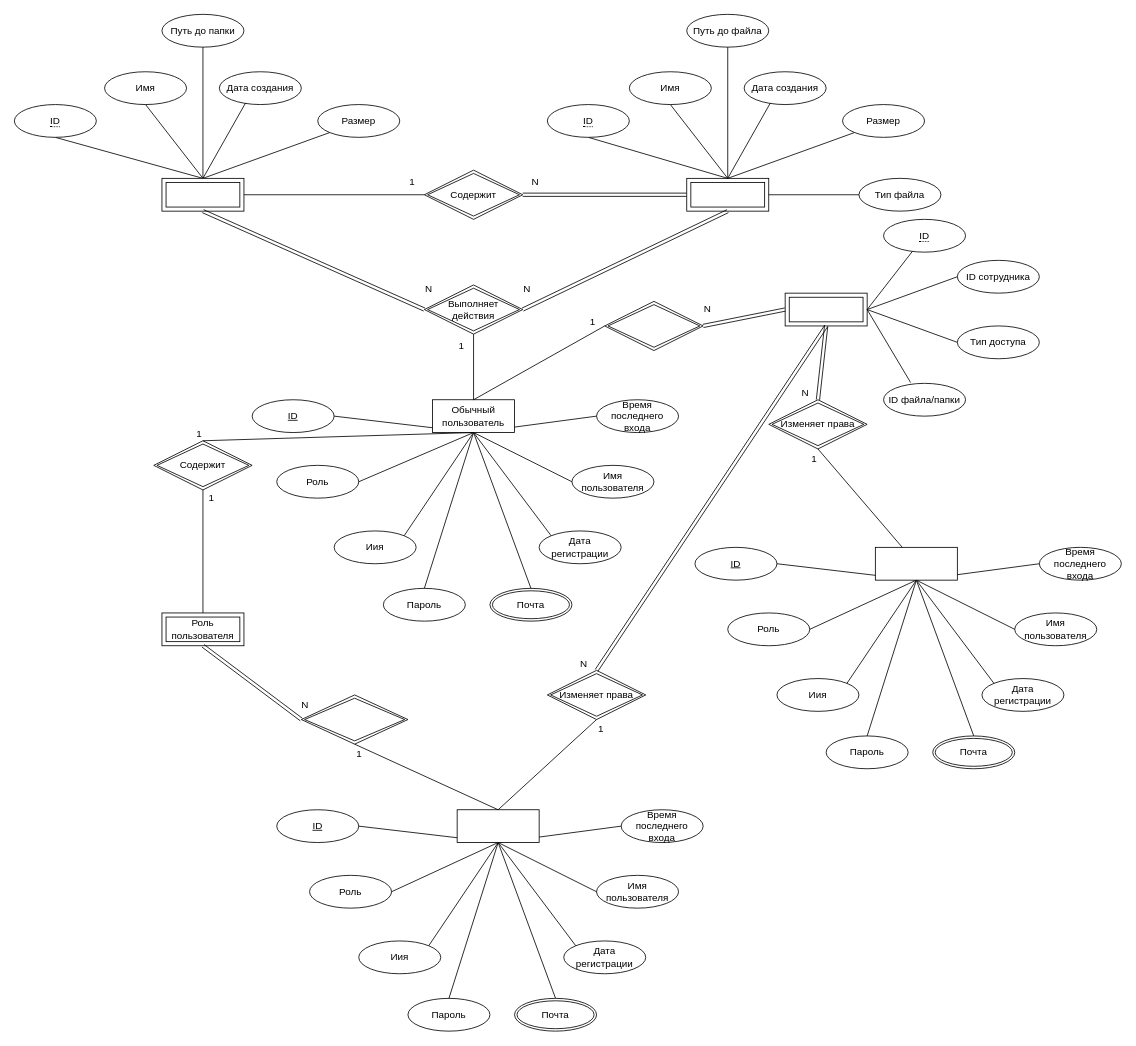
Image size: 1136x1046. Some labels were removed from this diagram. Here are the shapes that lost their labels. From the top down, the centre of each, then its label:
[202,194]: Папка
[727,194]: Файл
[653,326]: Имеет
[825,309]: Права доступа
[916,563]: Модератор
[354,719]: Сменил роль пользователя
[497,826]: Администратор
